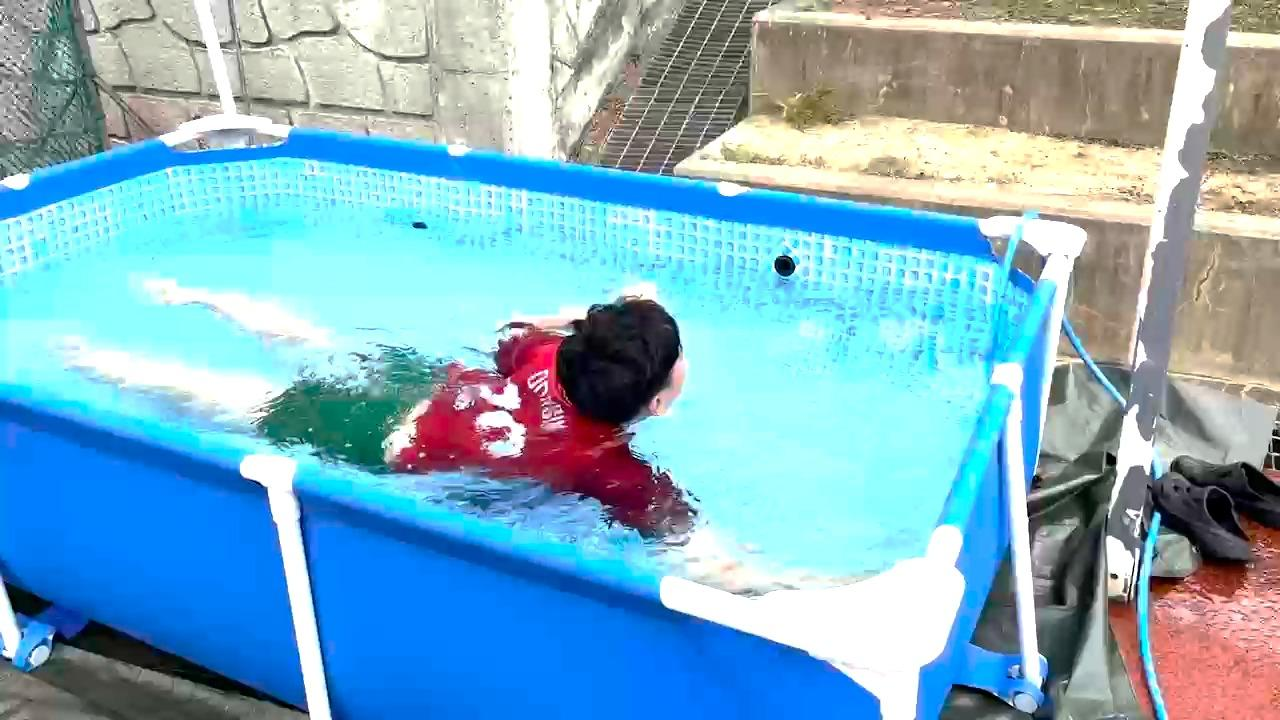Swimming: (55, 223, 828, 565)
